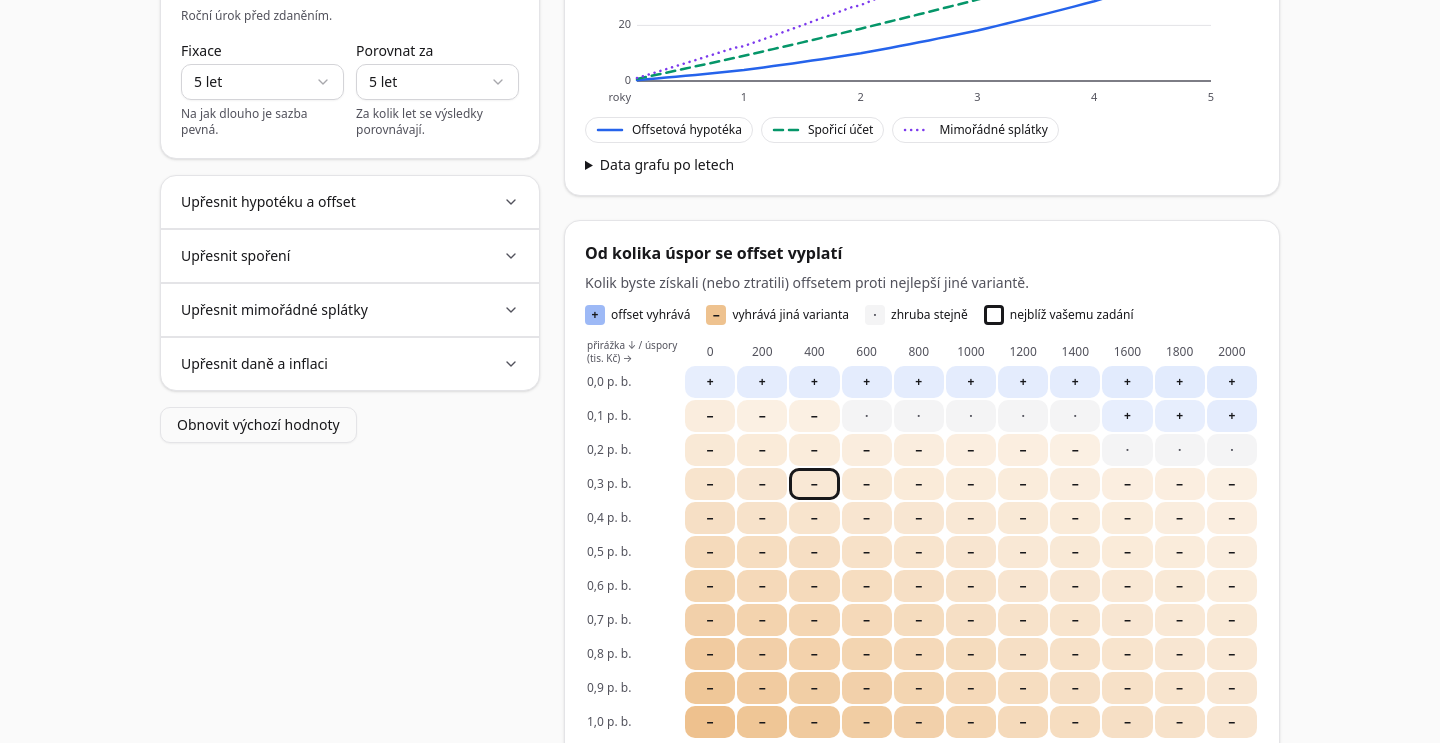
Test: clicking a cell shows its exact value
The width and height of the screenshot is (1440, 743).
(page scrolled)
Click the 1st cell "+" at (710, 382), box [685,366,735,398]
(page scrolled)
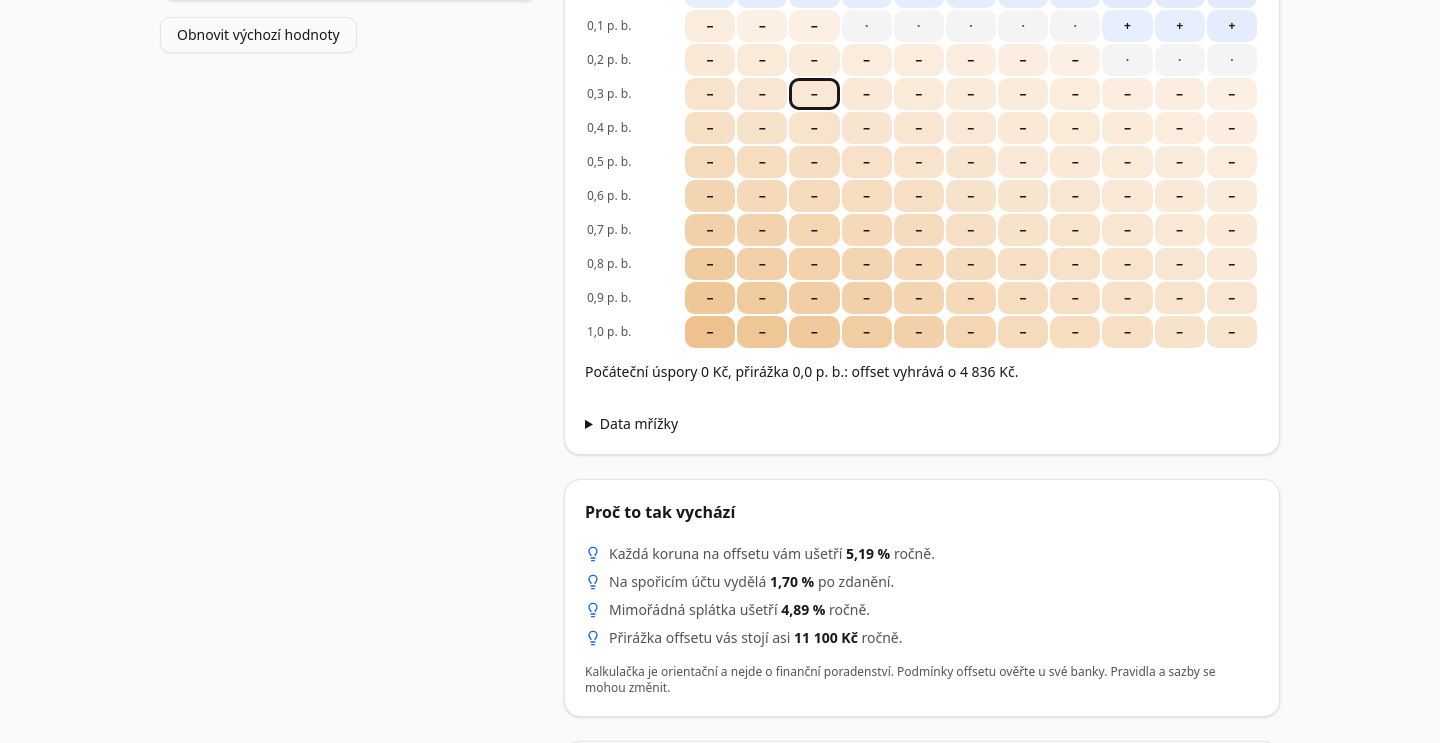
Result: the text "Počáteční úspory 0 Kč, přirážka 0,0 p. b." is shown at [585,362,1018,381]
